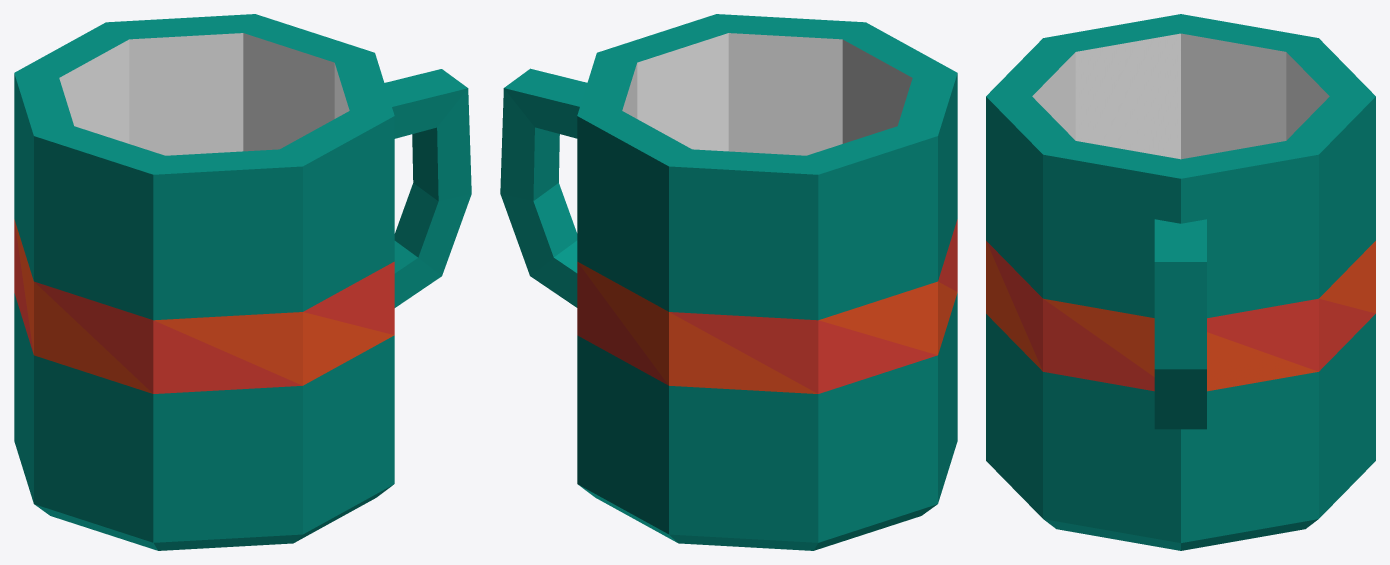
Rendered from Mug_01.obj.
The picture shows the model from 3 angles, left to right: view 1: azimuth 30°, elevation 25°; view 2: azimuth 150°, elevation 25°; view 3: azimuth 270°, elevation 25°; orthographic projection.
Visible parts, largest first — view 1: Circle_Circle.009; view 2: Circle_Circle.009; view 3: Circle_Circle.009.
Boxes of the visible parts, bbox=[...] form: Circle_Circle.009: bbox=[14, 14, 471, 550]; Circle_Circle.009: bbox=[500, 14, 957, 550]; Circle_Circle.009: bbox=[986, 14, 1375, 550].
Size of the model in its own units: 11.46 by 9.91 by 9.21.
